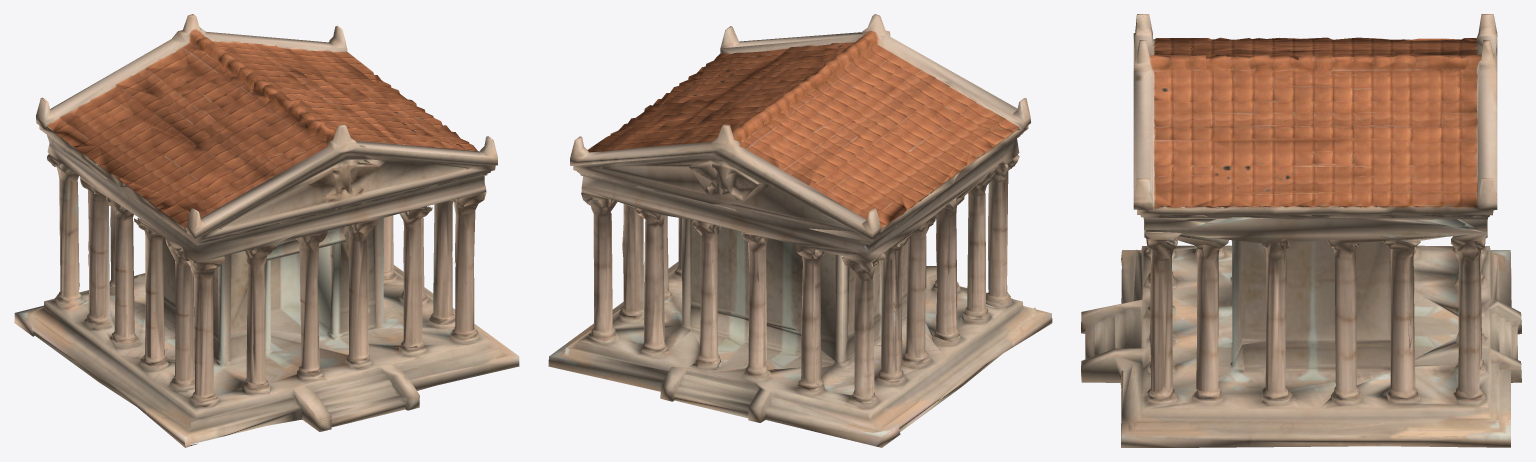
The model's file is temple.glb.
The picture shows the model from 3 angles, left to right: view 1: azimuth 30°, elevation 25°; view 2: azimuth 150°, elevation 25°; view 3: azimuth 270°, elevation 25°; orthographic projection. The views are drawn at different scales.
Parts seen in each view (by area): view 1: temple; view 2: temple; view 3: temple.
Part boxes in pixels (x1,y1,x2,y2): temple: (14, 14, 519, 447); temple: (548, 14, 1052, 447); temple: (1081, 14, 1521, 447).
Size of the model in its own units: 191 by 150 by 191.
Materials: 1 (1 with a texture image).
